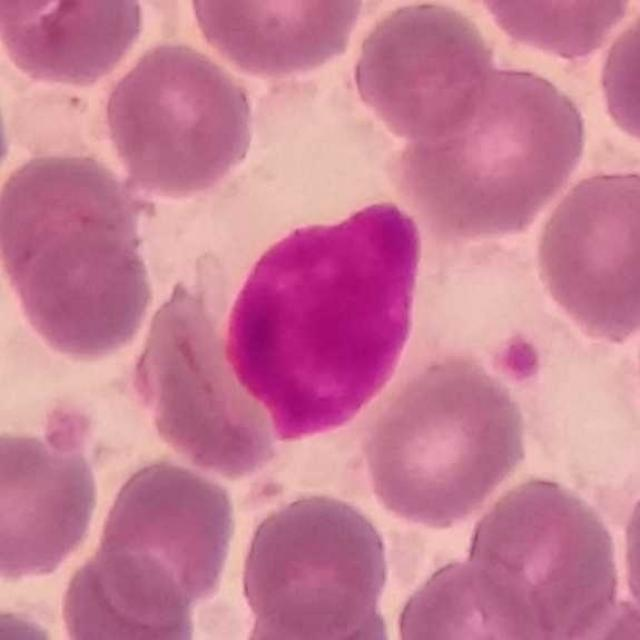Monocyte: (179, 83, 450, 456)
Platelets: (36, 383, 110, 460), (492, 332, 544, 384)
RBC: (383, 56, 592, 240), (126, 268, 300, 484), (356, 349, 533, 530), (463, 469, 626, 640), (0, 144, 149, 322), (98, 37, 258, 199), (92, 452, 242, 620), (233, 488, 395, 636), (345, 0, 498, 142), (9, 224, 158, 365), (528, 161, 640, 344), (0, 421, 104, 583), (182, 0, 368, 80), (389, 552, 548, 640), (56, 545, 200, 640), (1, 0, 150, 88), (467, 0, 639, 59), (226, 585, 404, 640), (592, 1, 640, 158), (540, 591, 640, 640), (614, 461, 640, 640), (0, 600, 72, 640), (0, 59, 14, 210), (0, 0, 82, 23)
